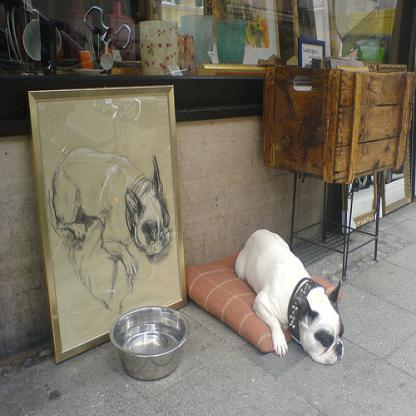dog: (233, 225, 345, 364)
